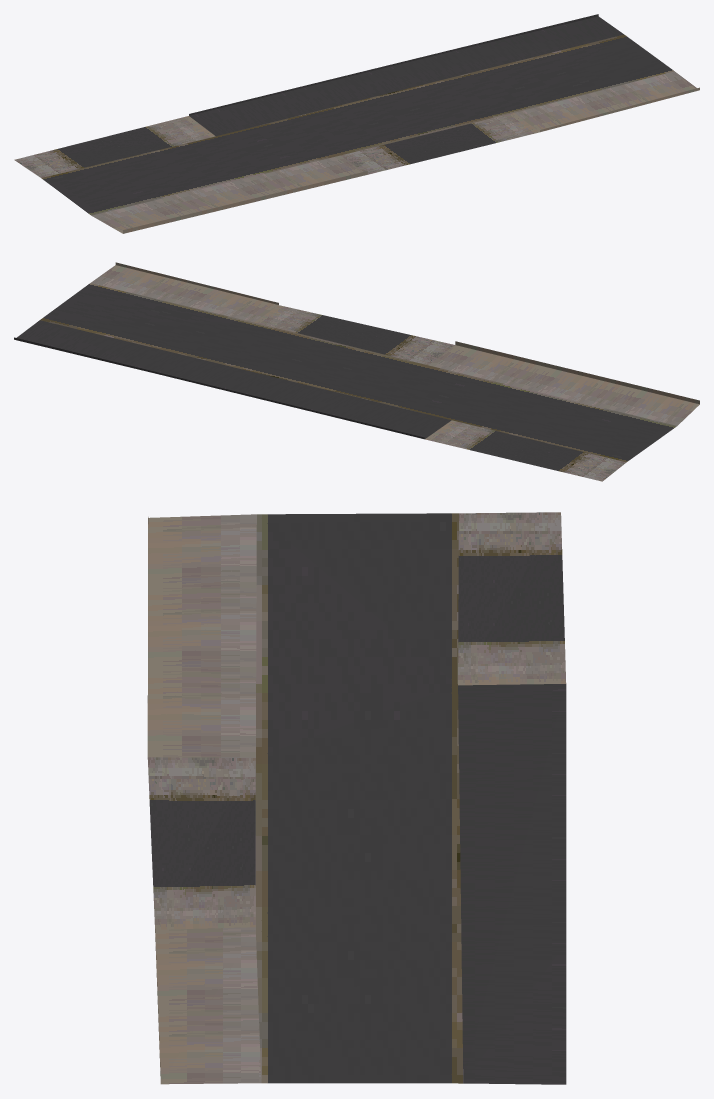
File: lodlae2_roads23.obj
3 renders of one model, top to bottom at view 1: azimuth 30°, elevation 25°; view 2: azimuth 150°, elevation 25°; view 3: azimuth 270°, elevation 25°, orthographic. The views are drawn at different scales.
Parts seen in each view (by area): view 1: LODLae2_roads23; view 2: LODLae2_roads23; view 3: LODLae2_roads23.
Part boxes in pixels (left/top/right/bottom): LODLae2_roads23: left=14, top=14, right=699, bottom=233; LODLae2_roads23: left=14, top=262, right=699, bottom=481; LODLae2_roads23: left=147, top=512, right=566, bottom=1084.
Bounding box in the file's own units: 66.98 × 0.6138 × 20.72.
Materials: 1 (1 with a texture image).
